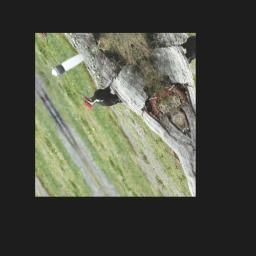Woodpecker: (76, 76, 125, 121)
